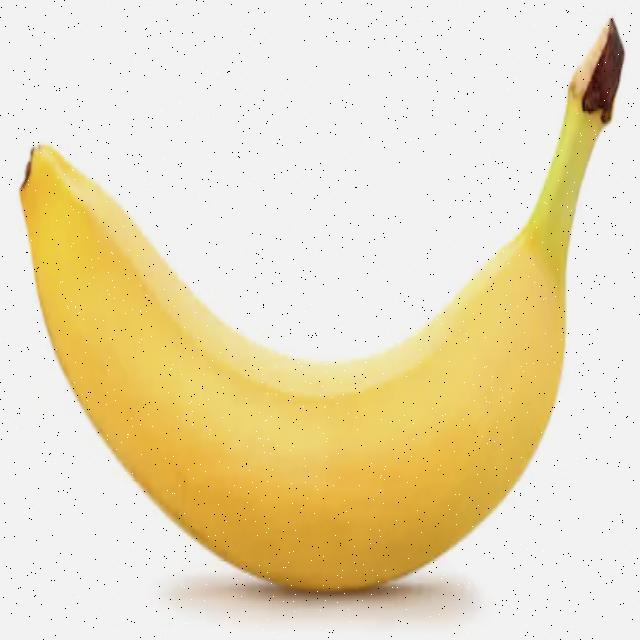god quality banana: (20, 90, 603, 589)
